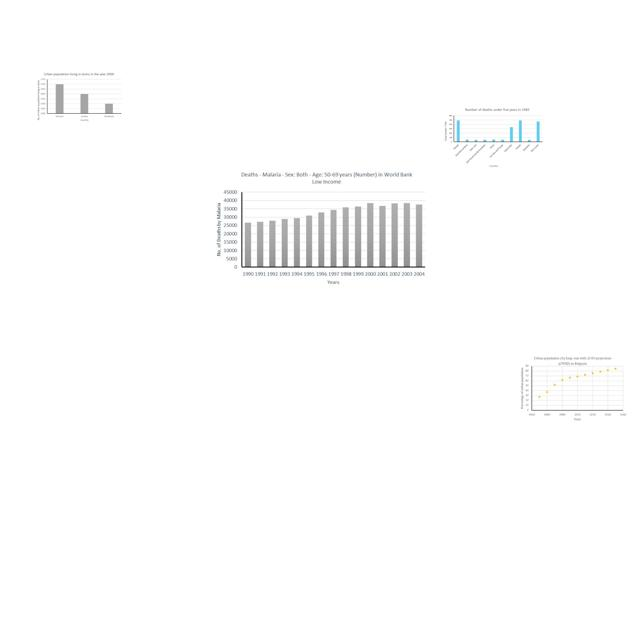Graph: (209, 167, 429, 289), (517, 355, 628, 421), (442, 106, 545, 171), (36, 71, 123, 122)
